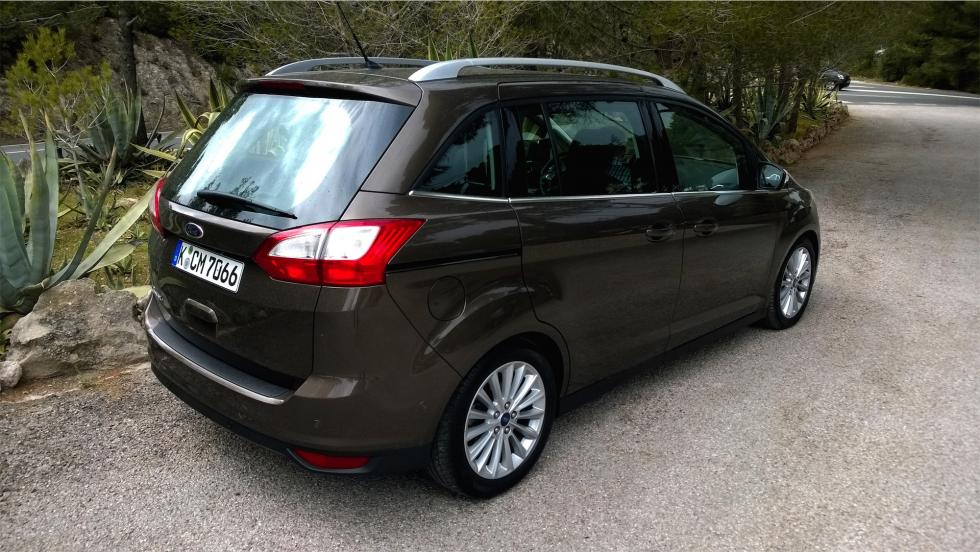car: (140, 53, 824, 499)
